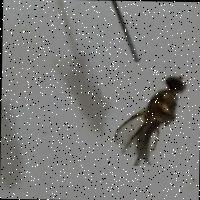Oriental-fruit-fly: (99, 62, 197, 168)
